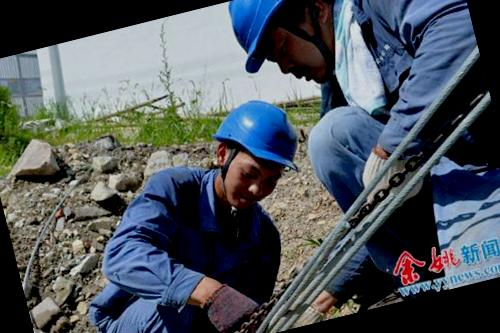person: (227, 0, 500, 318), (51, 88, 348, 333)
